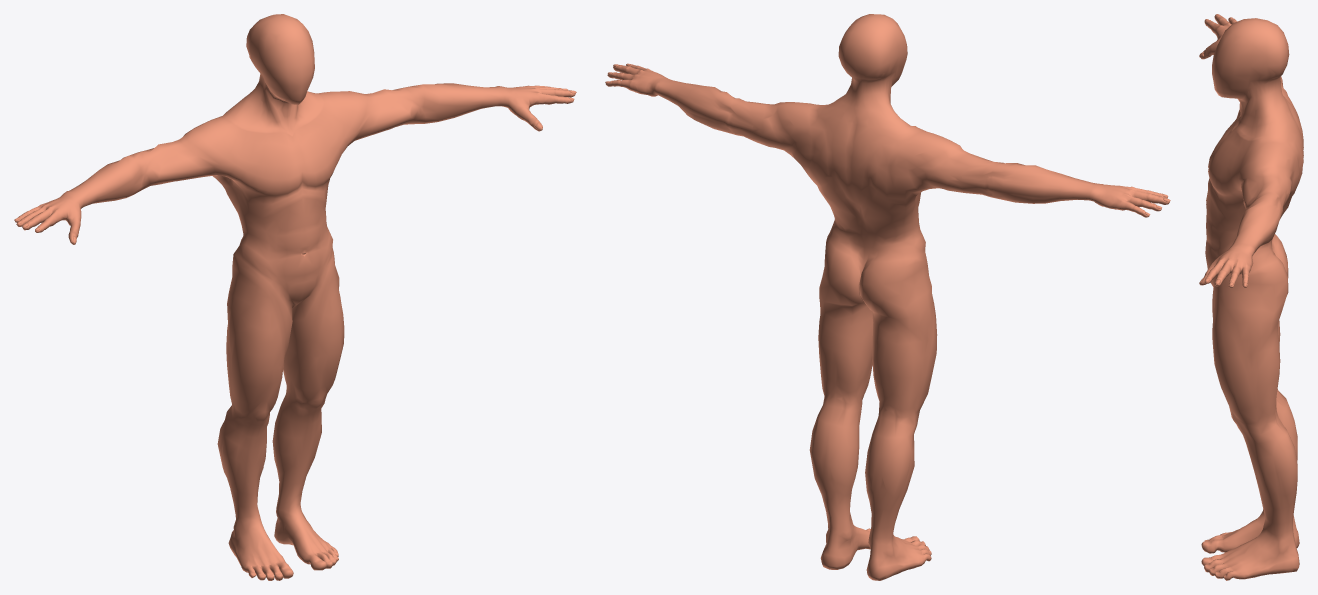
The picture shows the model from 3 angles, left to right: view 1: azimuth 30°, elevation 25°; view 2: azimuth 150°, elevation 25°; view 3: azimuth 270°, elevation 25°; orthographic projection.
Parts seen in each view (by area): view 1: body_G body; view 2: body_G body; view 3: body_G body.
Boxes of the visible parts, x1,y1,x2,y2 form: body_G body: (15, 14, 575, 580); body_G body: (606, 14, 1169, 580); body_G body: (1199, 15, 1303, 580).
Size of the model in its own units: 28.47 by 26.55 by 4.67.
